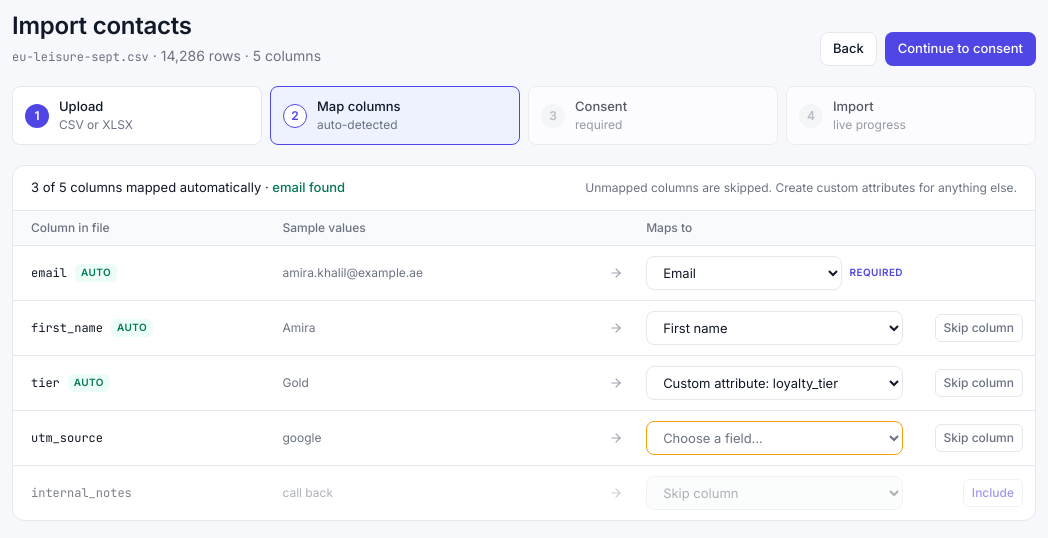
Scenario: mapping columns (D6b) › will not continue without a column mapped to email
This screenshot has width=1048, height=538.
Select "Skip column" in the dropdown named "Map email to" at (744, 273), box [646,256,842,290]
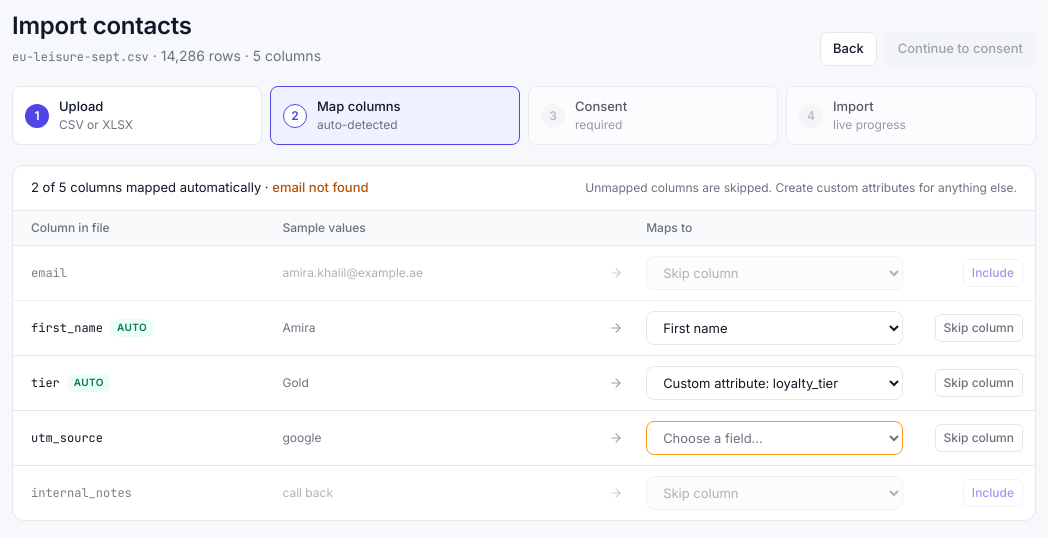
Expected: the button "Continue to consent" is disabled, [885,32,1036,66]
Expected: the text "email not found" is shown, [272,179,369,195]
